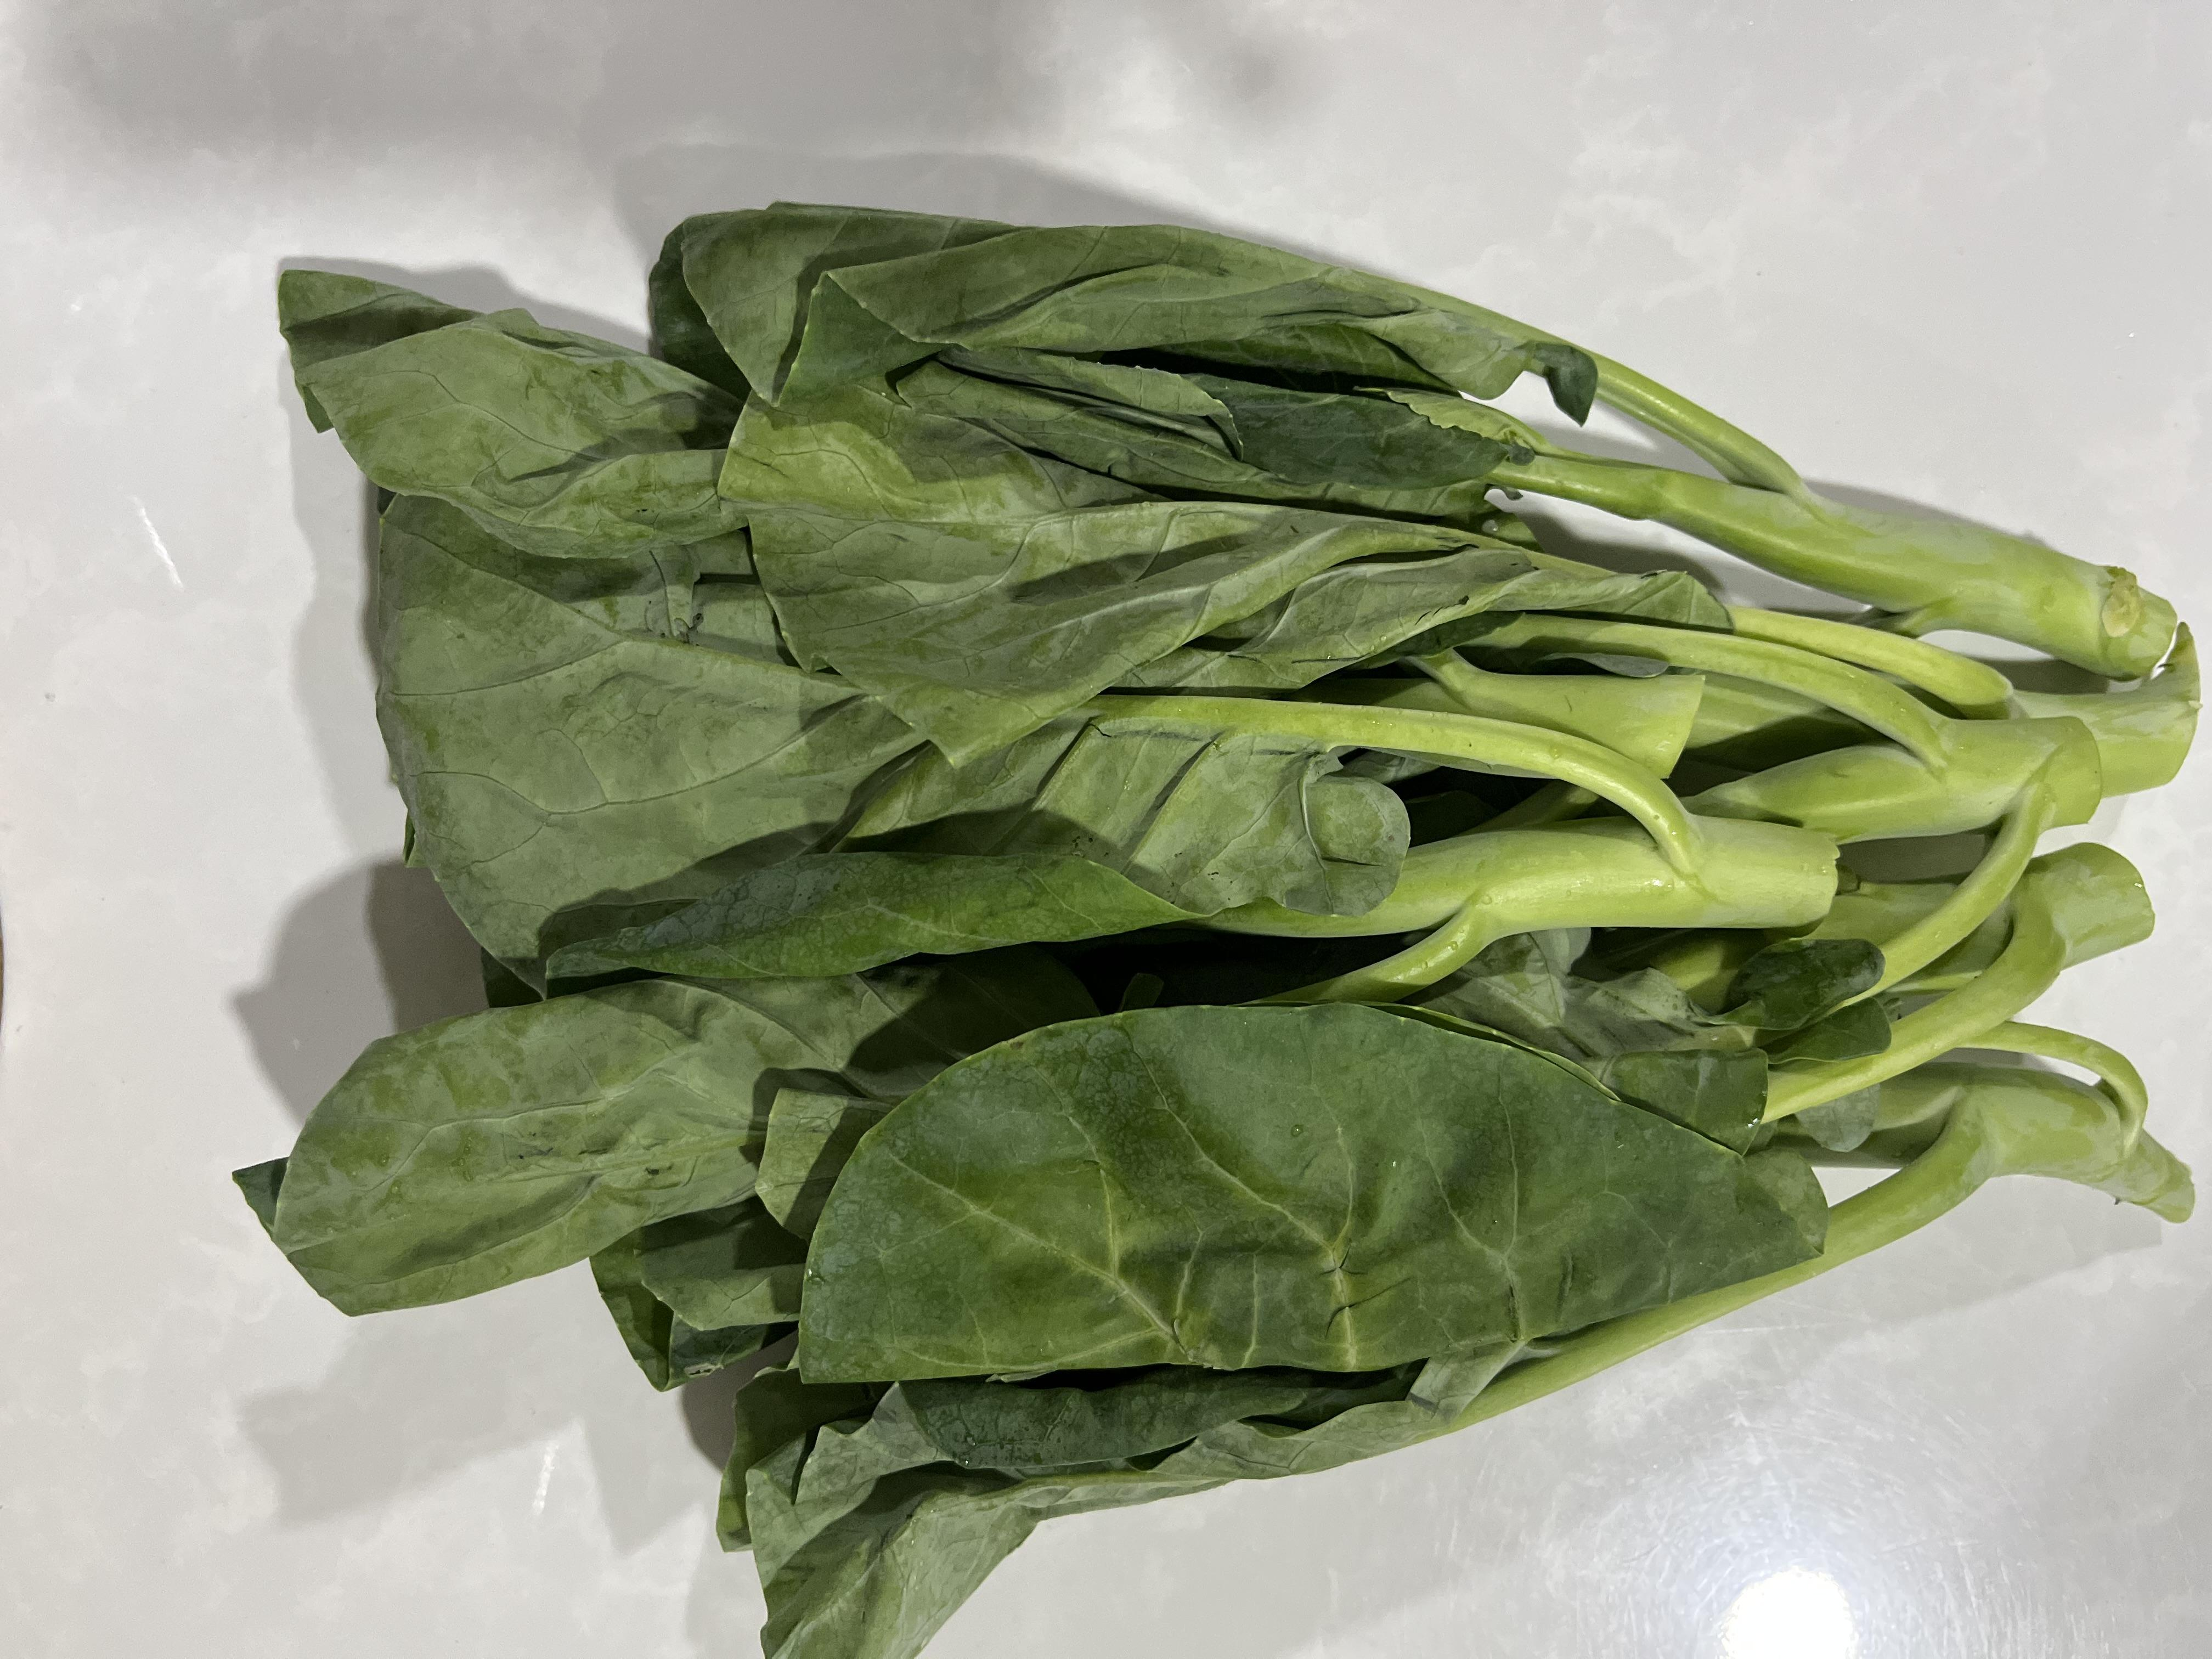Healthy-Pechay: (158, 120, 1827, 1443)
